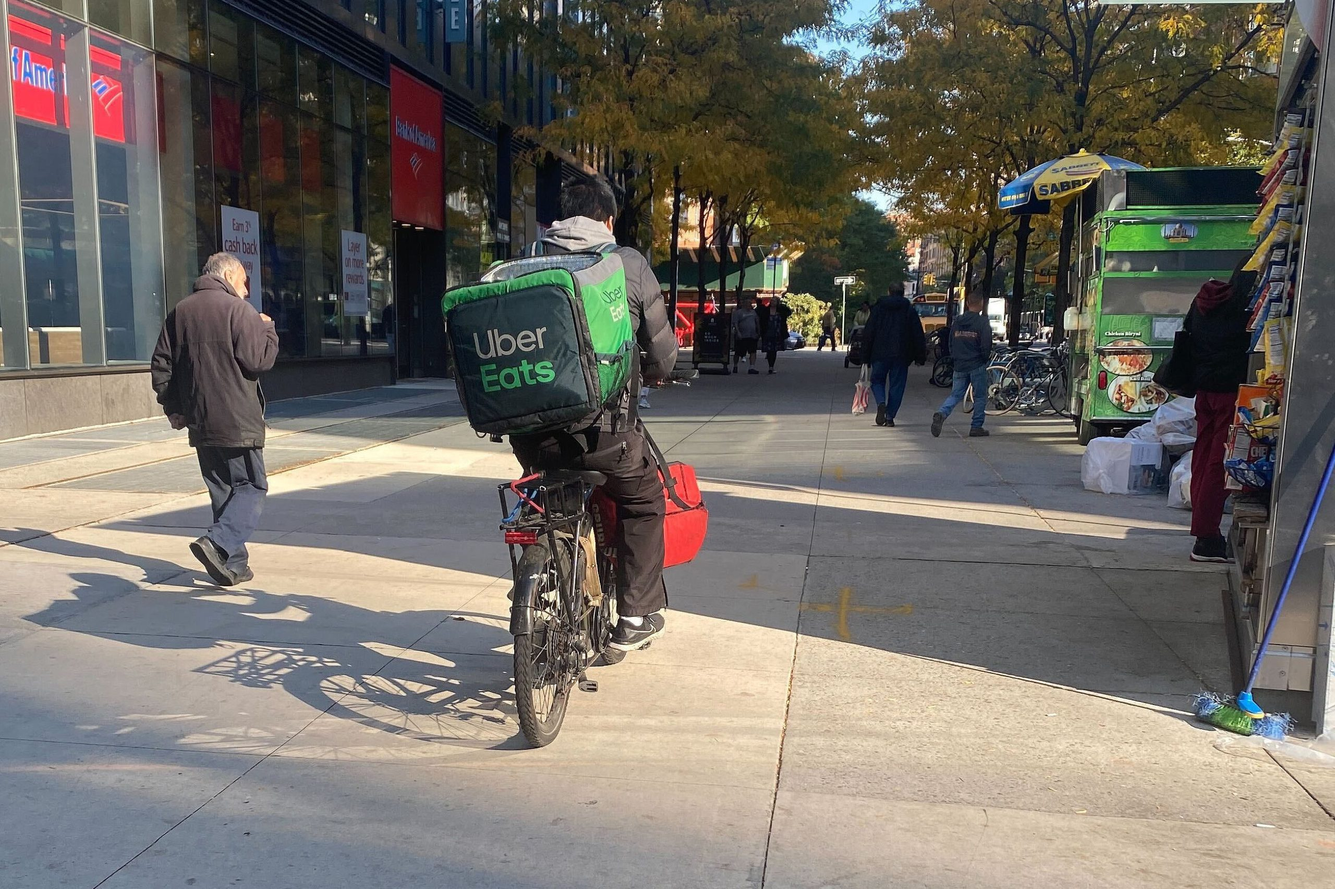Bicycle: (482, 419, 730, 752), (996, 334, 1070, 418)
Person: (133, 250, 308, 587), (920, 270, 1000, 448), (854, 267, 927, 436)
